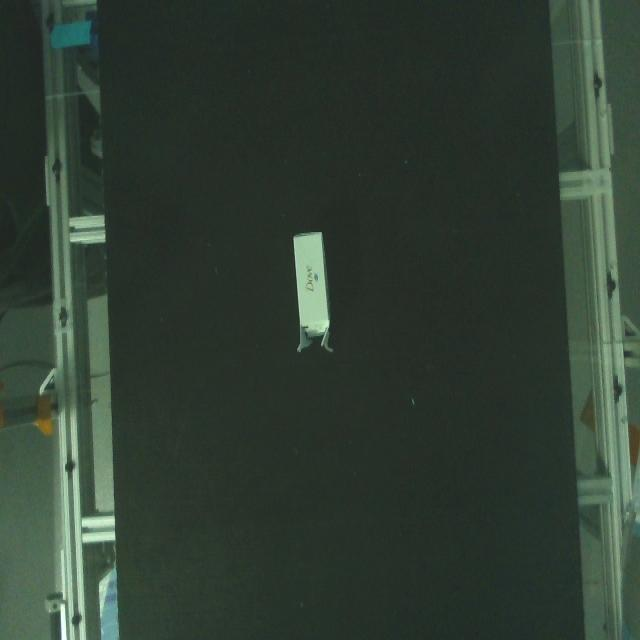paper: (286, 217, 348, 358)
